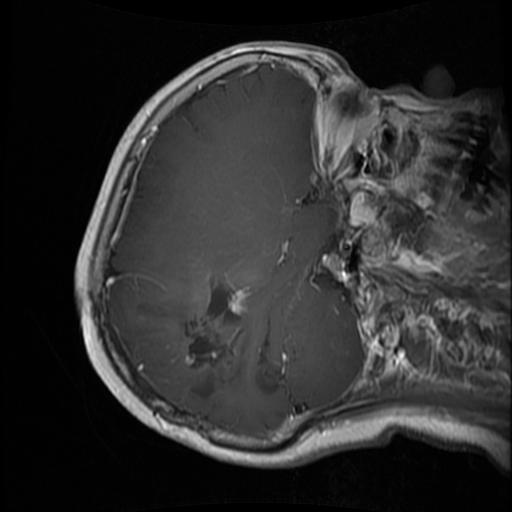glioma: (180, 281, 257, 382)
